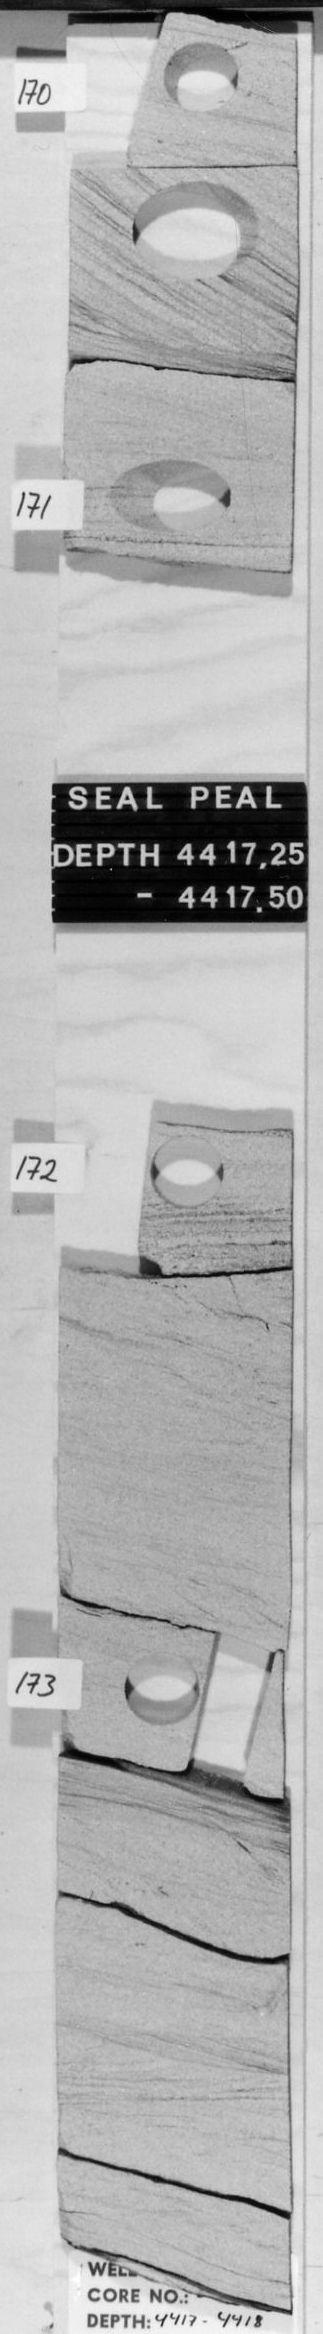hplug: (103, 455, 240, 539), (150, 1133, 235, 1216), (159, 39, 244, 118), (118, 1654, 202, 1730)
scal: (127, 179, 266, 287)
vplug: (63, 1119, 155, 1288), (185, 1633, 277, 1794), (100, 13, 170, 176)
